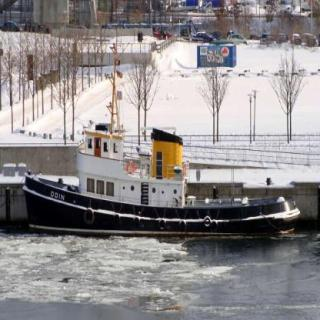Tug Boat: (7, 112, 306, 235)
